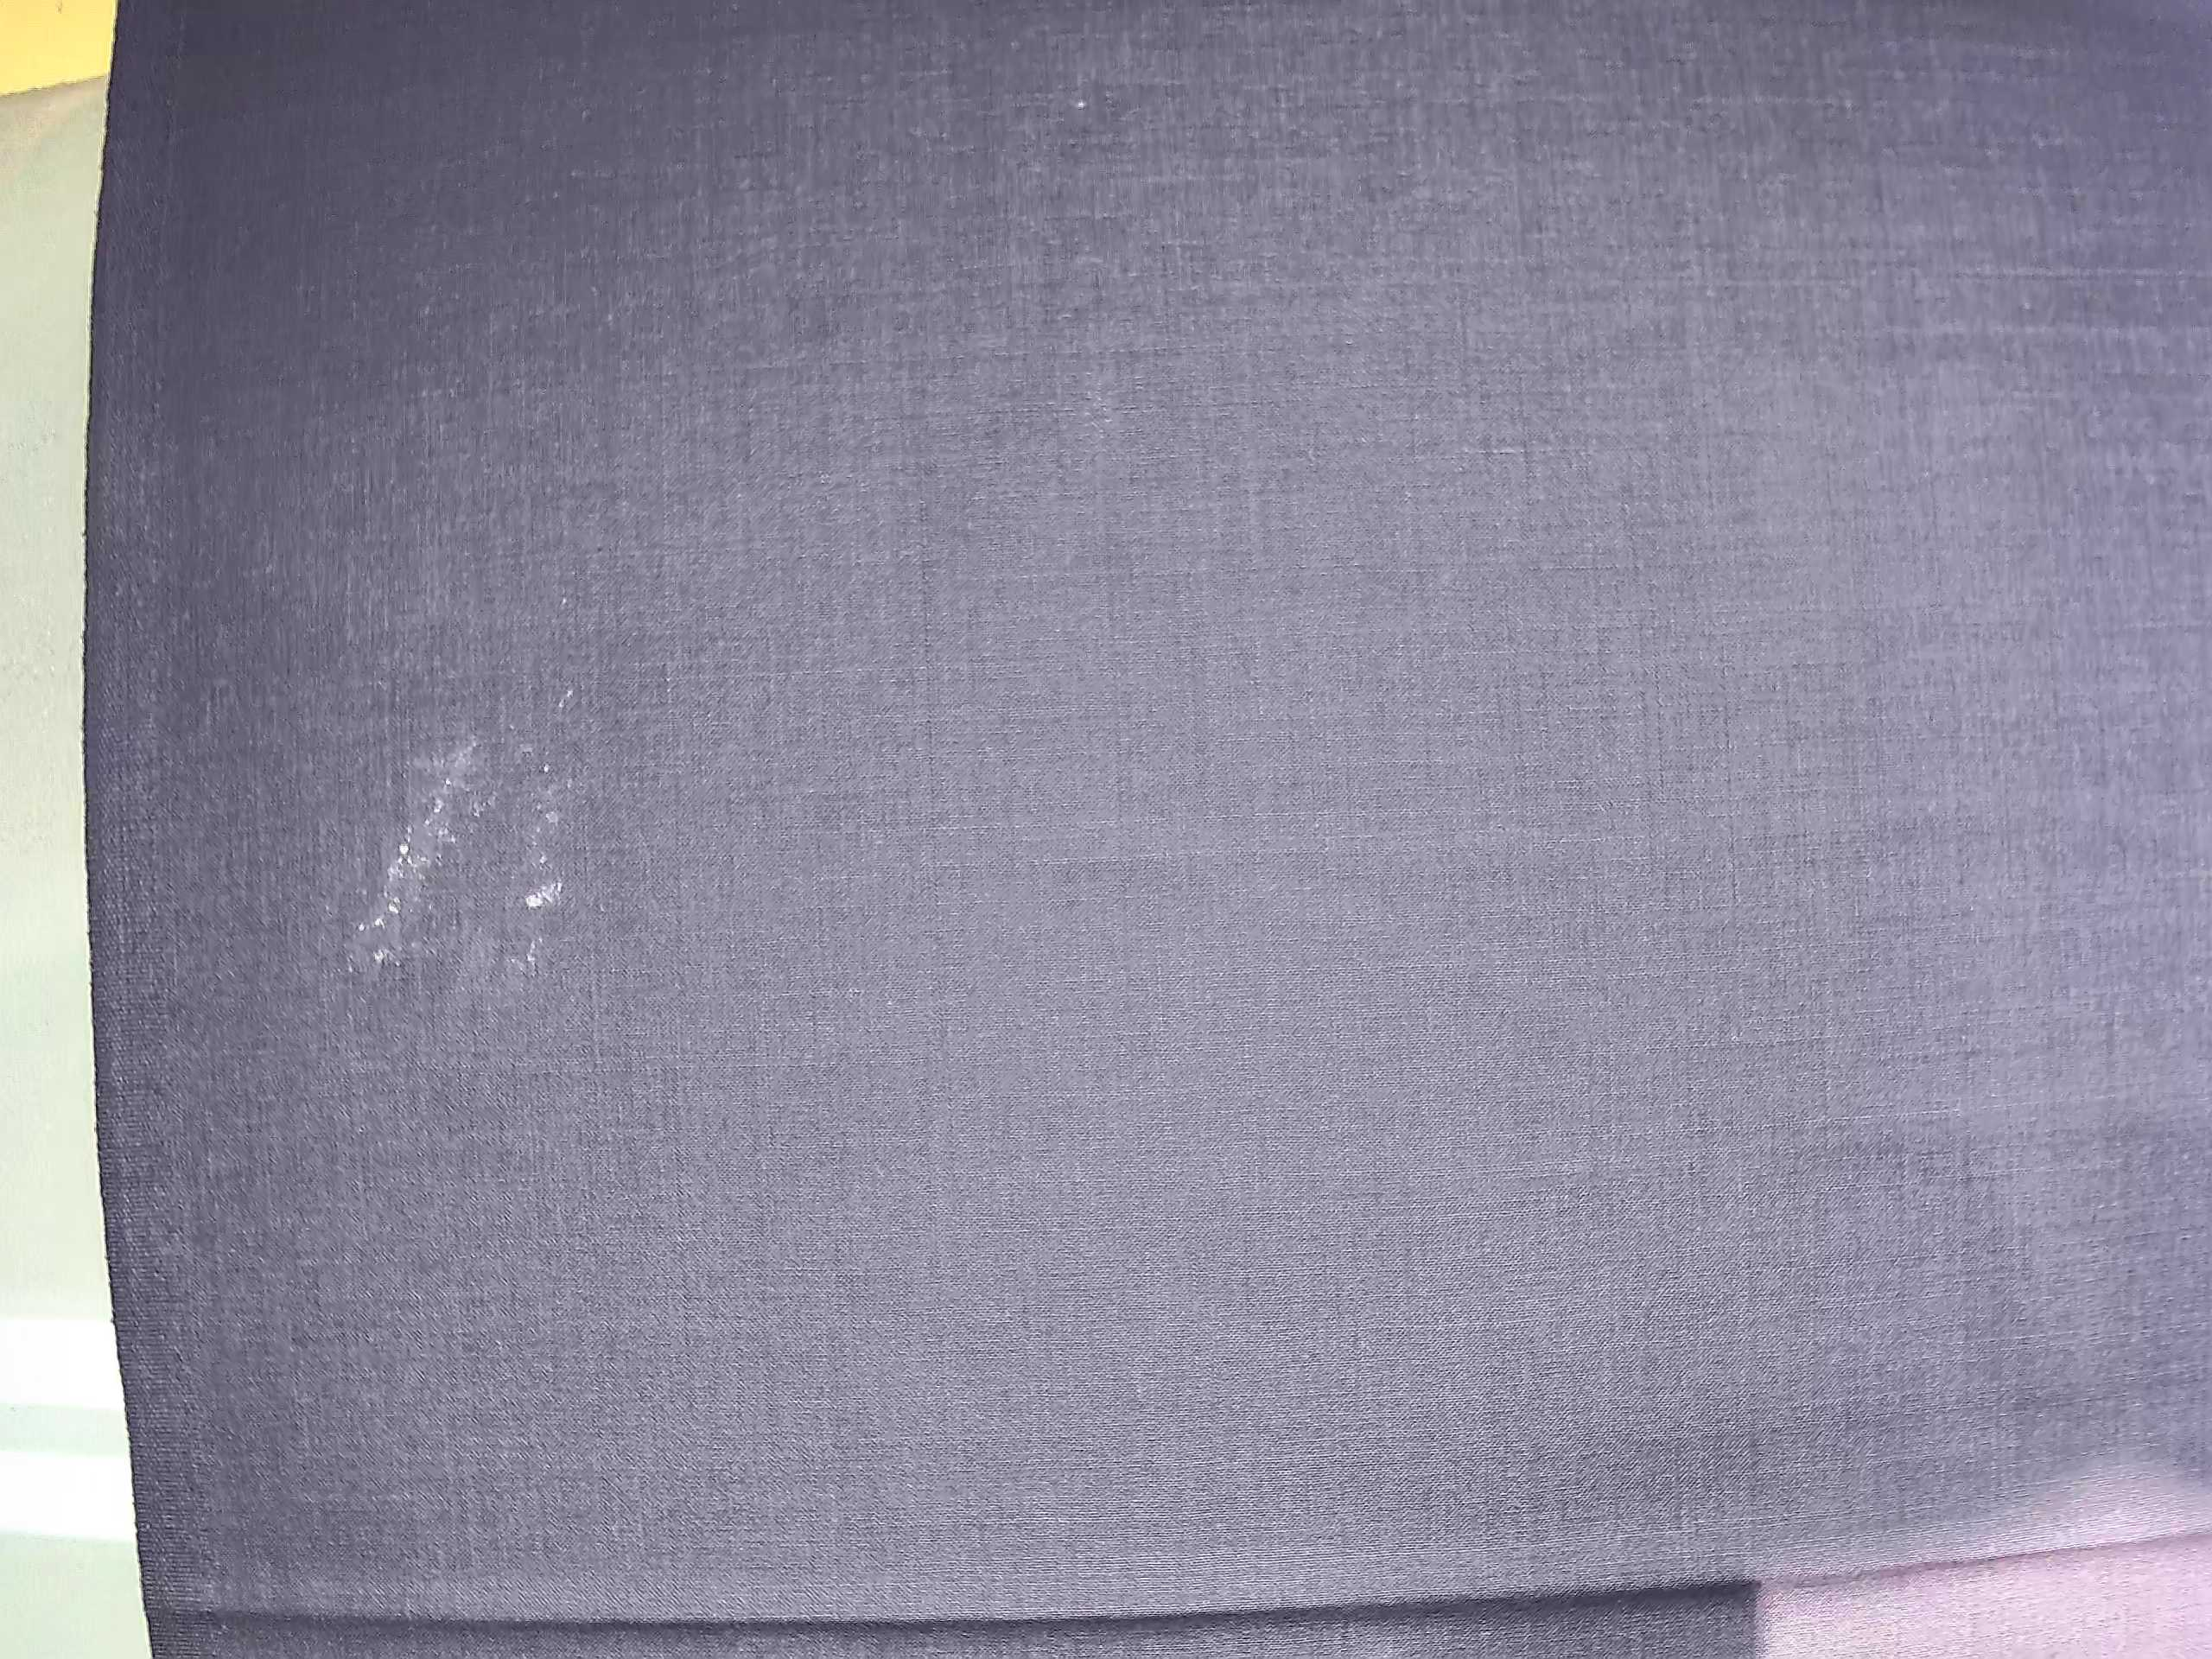stains: (324, 693, 592, 1033)
